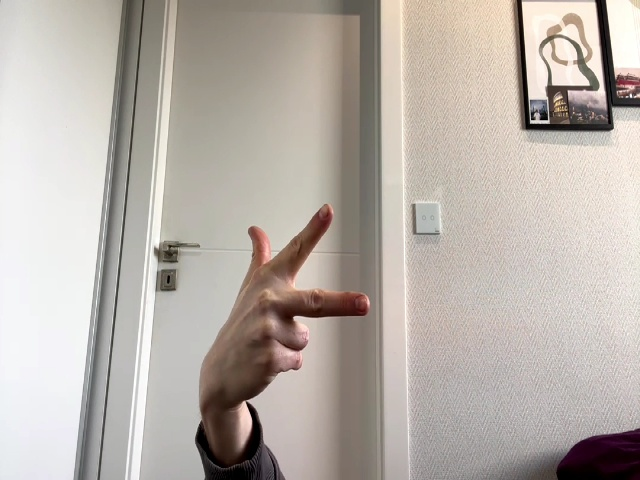K: (227, 204, 370, 383)
